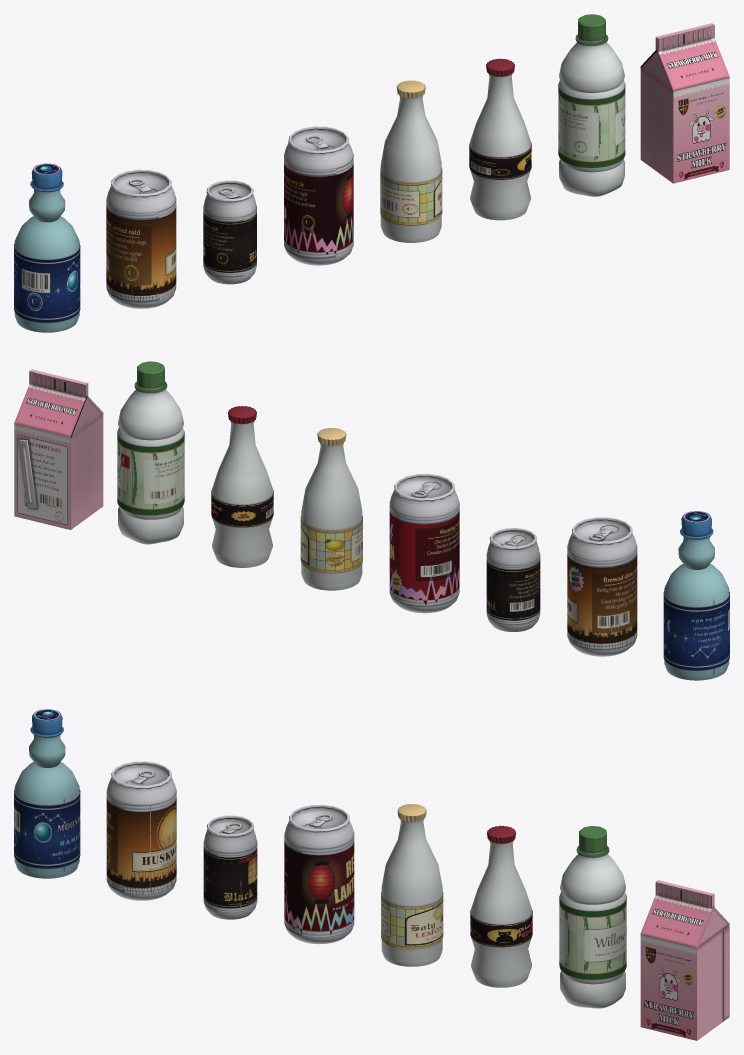
Rendered from ConcessionDrinks.fbx.
The picture shows the model from 3 angles, top to bottom: view 1: azimuth 30°, elevation 25°; view 2: azimuth 150°, elevation 25°; view 3: azimuth 330°, elevation 25°; orthographic projection.
Visible parts, largest first — view 1: ConcessionDrinks_StrawberryMilk, ConcessionDrinks_BarleyTea, ConcessionDrinks_RedLantern, ConcessionDrinks_BlackCatCola_Glass, ConcessionDrinks_GreenTea, ConcessionDrinks_CannedCoffee, ConcessionDrinks_Ramune, ConcessionDrinks_GreenTea_Glass, ConcessionDrinks_HolyLemonade_Glass, ConcessionDrinks_Ramune_Glass, ConcessionDrinks_HolyLemonade, ConcessionDrinks_BlackCatCola; view 2: ConcessionDrinks_StrawberryMilk, ConcessionDrinks_BarleyTea, ConcessionDrinks_RedLantern, ConcessionDrinks_BlackCatCola_Glass, ConcessionDrinks_GreenTea, ConcessionDrinks_CannedCoffee, ConcessionDrinks_Ramune, ConcessionDrinks_GreenTea_Glass, ConcessionDrinks_HolyLemonade_Glass, ConcessionDrinks_Ramune_Glass, ConcessionDrinks_HolyLemonade, ConcessionDrinks_BlackCatCola; view 3: ConcessionDrinks_StrawberryMilk, ConcessionDrinks_BarleyTea, ConcessionDrinks_RedLantern, ConcessionDrinks_BlackCatCola_Glass, ConcessionDrinks_GreenTea, ConcessionDrinks_CannedCoffee, ConcessionDrinks_Ramune, ConcessionDrinks_GreenTea_Glass, ConcessionDrinks_HolyLemonade_Glass, ConcessionDrinks_Ramune_Glass, ConcessionDrinks_HolyLemonade, ConcessionDrinks_BlackCatCola.
Boxes of the visible parts, x1=… form: ConcessionDrinks_StrawberryMilk: x1=640, y1=23, x2=729, y2=183; ConcessionDrinks_BarleyTea: x1=106, y1=169, x2=176, y2=308; ConcessionDrinks_RedLantern: x1=284, y1=126, x2=353, y2=265; ConcessionDrinks_BlackCatCola_Glass: x1=470, y1=74, x2=530, y2=220; ConcessionDrinks_GreenTea: x1=558, y1=14, x2=625, y2=167; ConcessionDrinks_CannedCoffee: x1=203, y1=180, x2=256, y2=284; ConcessionDrinks_Ramune: x1=14, y1=163, x2=80, y2=322; ConcessionDrinks_GreenTea_Glass: x1=559, y1=38, x2=624, y2=196; ConcessionDrinks_HolyLemonade_Glass: x1=380, y1=96, x2=441, y2=242; ConcessionDrinks_Ramune_Glass: x1=14, y1=189, x2=79, y2=332; ConcessionDrinks_HolyLemonade: x1=380, y1=80, x2=442, y2=225; ConcessionDrinks_BlackCatCola: x1=469, y1=58, x2=531, y2=179; ConcessionDrinks_StrawberryMilk: x1=14, y1=369, x2=103, y2=529; ConcessionDrinks_BarleyTea: x1=567, y1=517, x2=637, y2=656; ConcessionDrinks_RedLantern: x1=389, y1=474, x2=459, y2=613; ConcessionDrinks_BlackCatCola_Glass: x1=212, y1=421, x2=272, y2=567; ConcessionDrinks_GreenTea: x1=117, y1=361, x2=184, y2=515; ConcessionDrinks_CannedCoffee: x1=486, y1=528, x2=540, y2=631; ConcessionDrinks_Ramune: x1=663, y1=511, x2=729, y2=670; ConcessionDrinks_GreenTea_Glass: x1=118, y1=385, x2=183, y2=544; ConcessionDrinks_HolyLemonade_Glass: x1=301, y1=443, x2=362, y2=590; ConcessionDrinks_Ramune_Glass: x1=664, y1=537, x2=729, y2=680; ConcessionDrinks_HolyLemonade: x1=300, y1=427, x2=362, y2=573; ConcessionDrinks_BlackCatCola: x1=211, y1=406, x2=273, y2=527; ConcessionDrinks_StrawberryMilk: x1=640, y1=880, x2=729, y2=1040; ConcessionDrinks_BarleyTea: x1=106, y1=761, x2=176, y2=900; ConcessionDrinks_RedLantern: x1=284, y1=804, x2=354, y2=944; ConcessionDrinks_BlackCatCola_Glass: x1=471, y1=840, x2=531, y2=987; ConcessionDrinks_GreenTea: x1=559, y1=826, x2=626, y2=979; ConcessionDrinks_CannedCoffee: x1=203, y1=815, x2=257, y2=919; ConcessionDrinks_Ramune: x1=14, y1=709, x2=80, y2=868; ConcessionDrinks_GreenTea_Glass: x1=560, y1=850, x2=625, y2=1008; ConcessionDrinks_HolyLemonade_Glass: x1=381, y1=819, x2=442, y2=966; ConcessionDrinks_Ramune_Glass: x1=14, y1=735, x2=79, y2=878; ConcessionDrinks_HolyLemonade: x1=381, y1=804, x2=443, y2=949; ConcessionDrinks_BlackCatCola: x1=470, y1=825, x2=532, y2=947.
Size of the model in its own units: 394 by 90.6 by 34.3.
